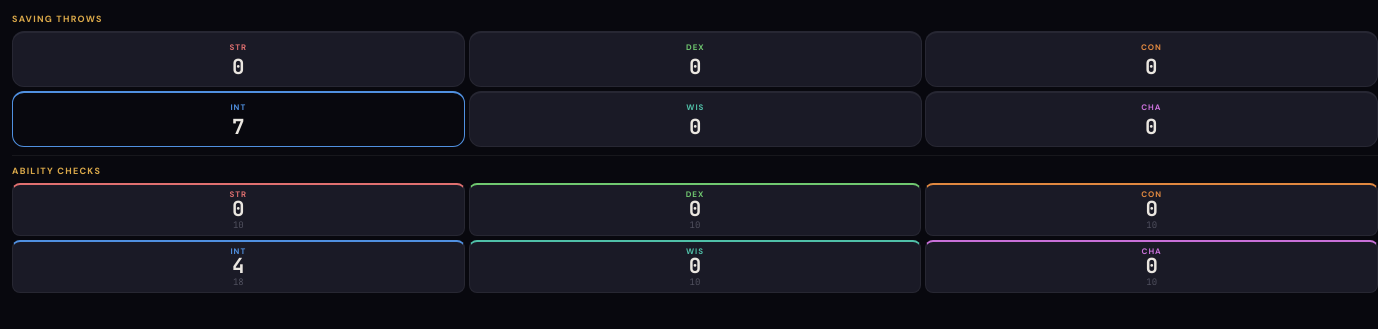
Test: does not roll on an unreadable protection state and permits a retry
Click the button with aria-label "intelligence saving throw" at coordinates (238, 119), box [12,91,465,147]
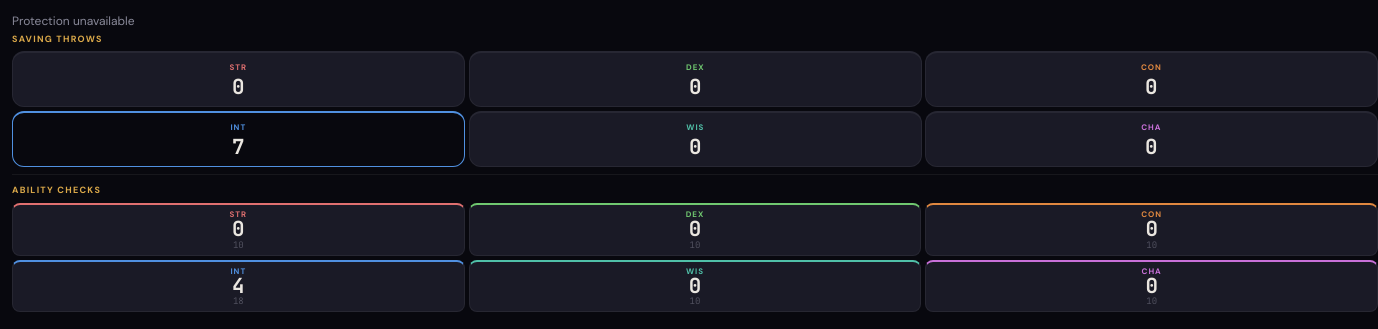
Check: the message "Protection unavailable" is shown, box [12,13,135,29]
Click the button with aria-label "intelligence saving throw" at coordinates (238, 139), box [12,111,465,166]
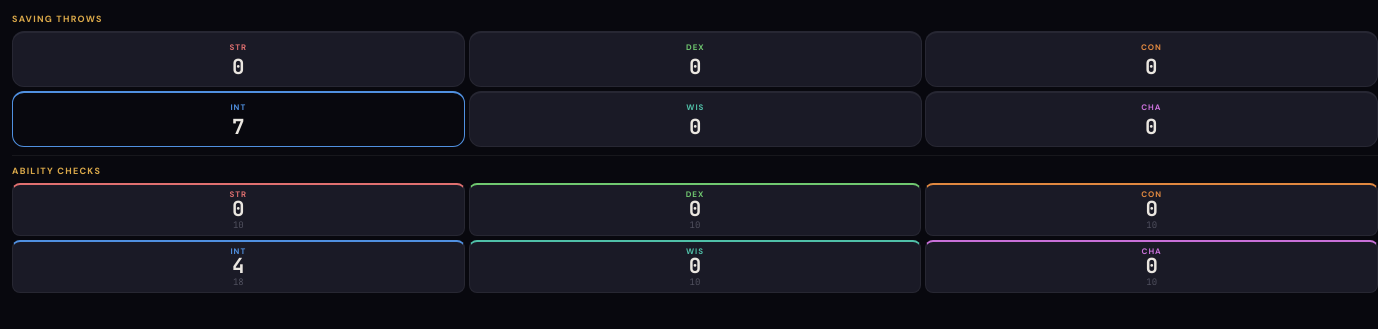
Check: the message "Protection unavailable" is gone
